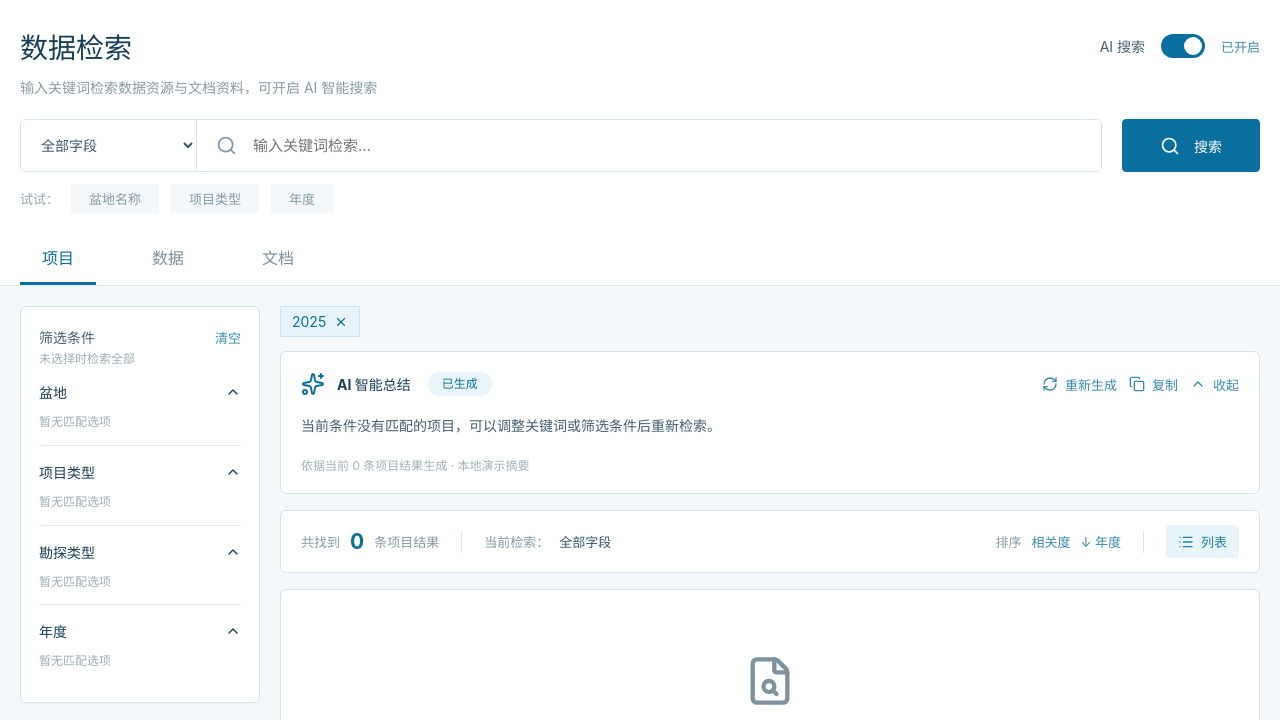
Test: 搜索的最终结果计数与交互 › 零结果中隐藏的已选条件可通过标签取消
Click the button named "取消筛选 2025" at (320, 322), box [280,306,360,337]
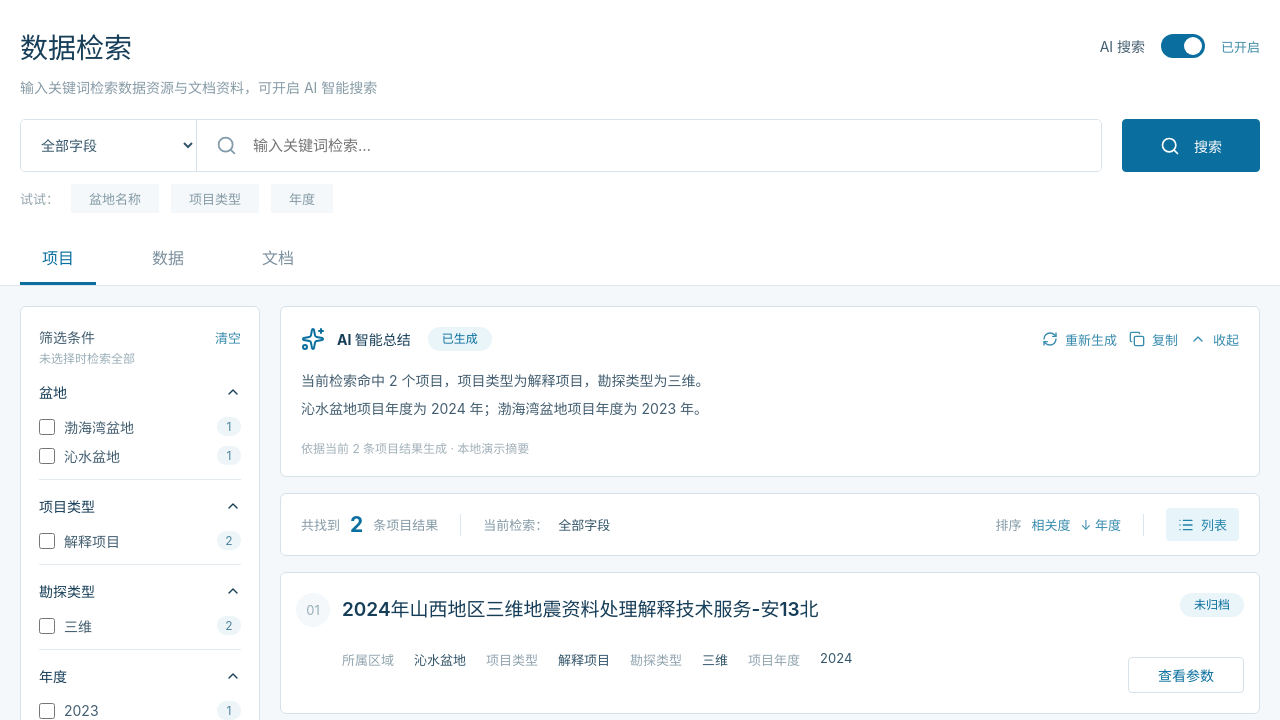
Now the text named "项目结果数量" reads "2", box [350,512,363,537]
